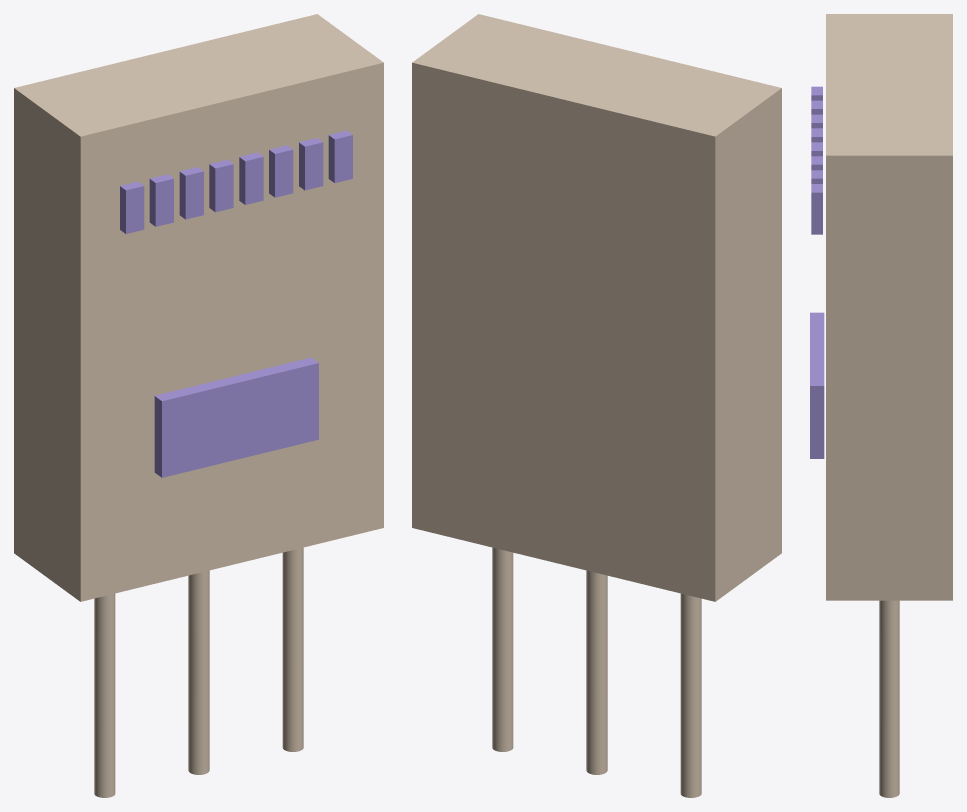
Rendered from boiler.gltf.
The picture shows the model from 3 angles, left to right: view 1: azimuth 30°, elevation 25°; view 2: azimuth 150°, elevation 25°; view 3: azimuth 270°, elevation 25°; orthographic projection. The views are drawn at different scales.
Visible parts, largest first — view 1: housing, display, pipe_0, pipe_1, pipe_2, vent_6, vent_2, vent_5, vent_3, vent_1, vent_0, vent_4 (+1 smaller); view 2: housing, pipe_0, pipe_1, pipe_2; view 3: housing, pipe_2, display, vent_7.
Part boxes in pixels (x1,y1,x2,y2): housing: [14, 14, 383, 601]; display: [154, 357, 318, 477]; pipe_0: [94, 593, 115, 797]; pipe_1: [188, 570, 209, 774]; pipe_2: [282, 547, 303, 751]; vent_6: [299, 138, 323, 190]; vent_2: [179, 167, 203, 219]; vent_5: [269, 145, 293, 197]; vent_3: [209, 159, 233, 212]; vent_1: [149, 174, 173, 226]; vent_0: [120, 181, 144, 233]; vent_4: [239, 152, 263, 204]; housing: [412, 14, 781, 601]; pipe_0: [680, 593, 701, 797]; pipe_1: [586, 570, 607, 774]; pipe_2: [492, 547, 513, 751]; housing: [826, 14, 952, 600]; pipe_2: [879, 600, 899, 797]; display: [810, 312, 824, 458]; vent_7: [811, 184, 822, 234].
Bounding box in the file's own units: 0.58 × 1.27 × 0.2475.
